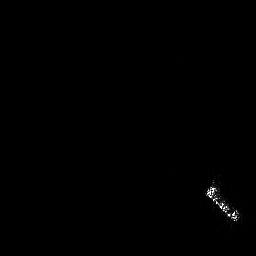ship: (201, 176, 244, 225)
